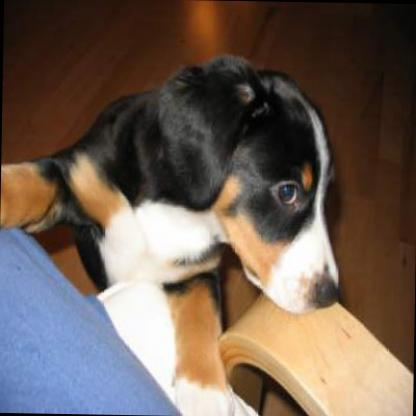EntleBucher: (0, 46, 345, 415)
